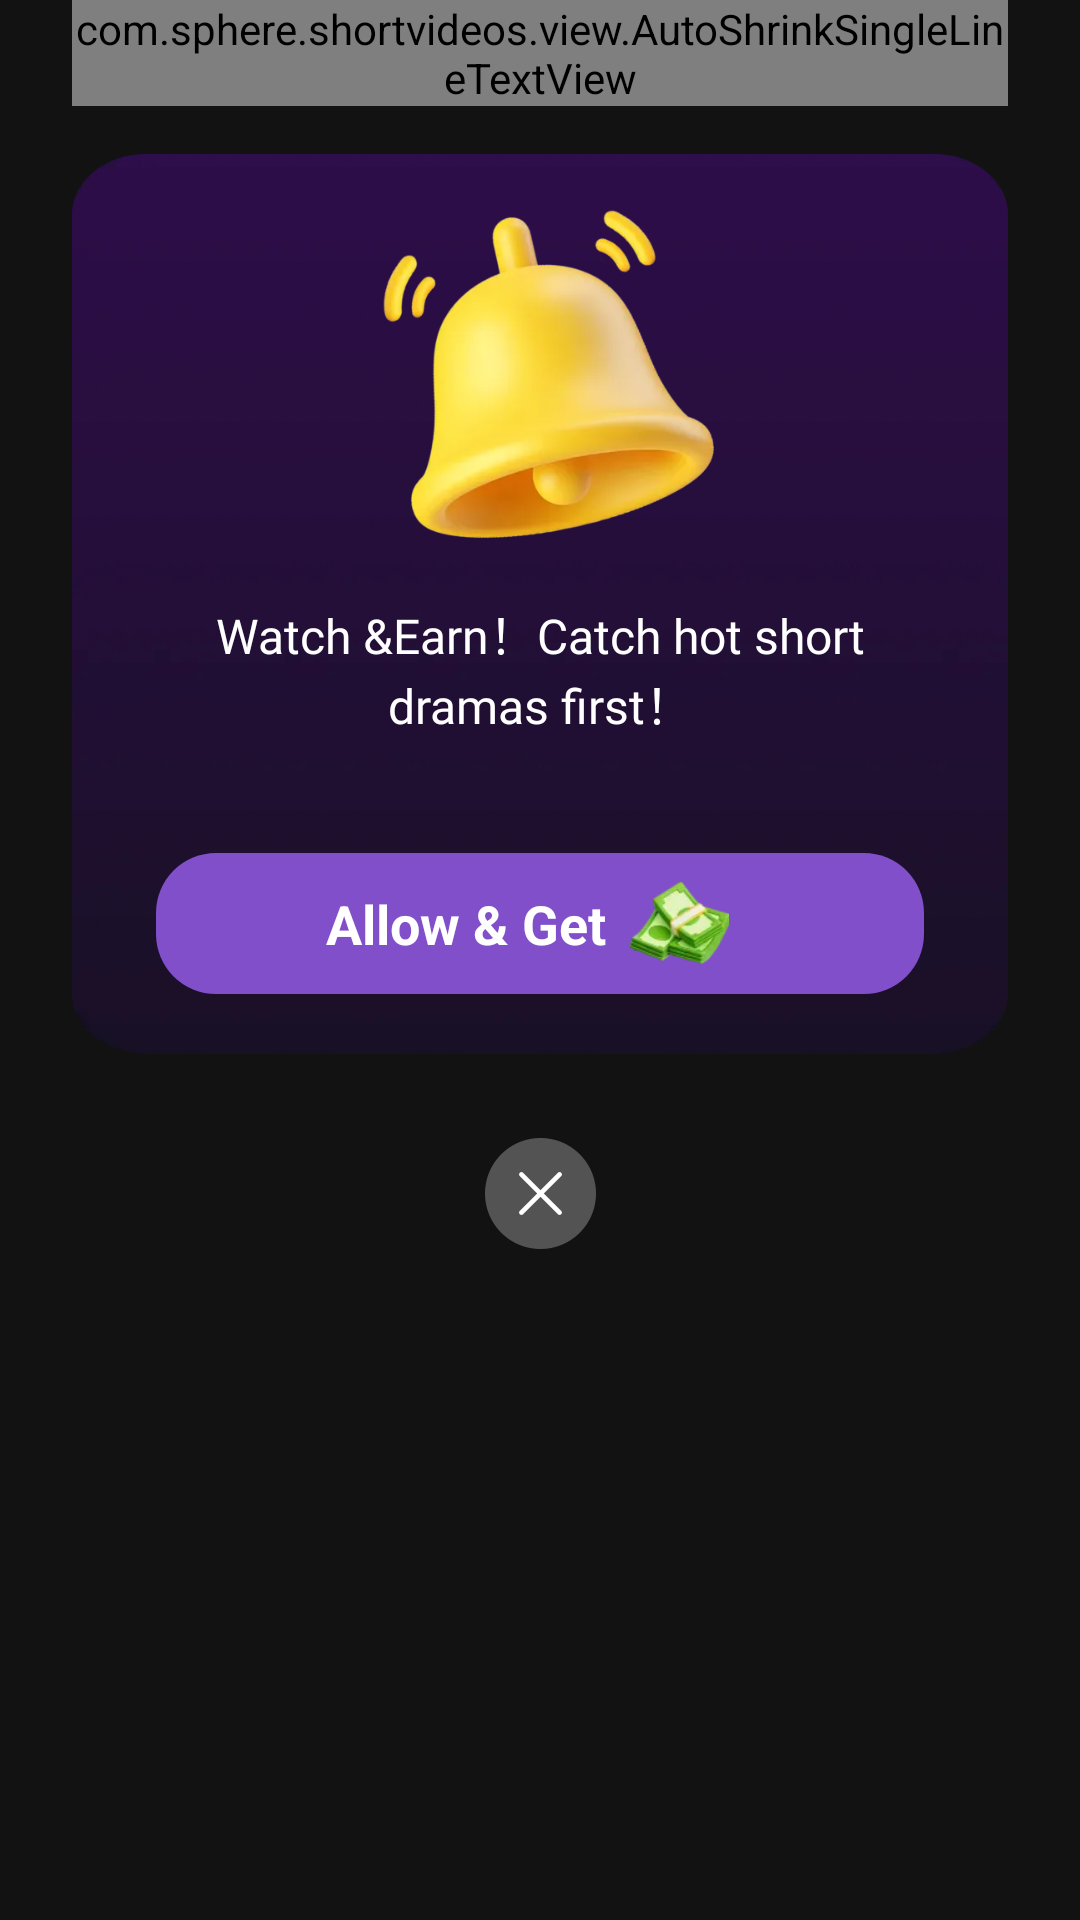

Icons on this 1080px×1920px Android screen, each with its box as (x1, y1, x2, y2):
close: (485, 1138, 596, 1249)
coin low: (630, 882, 729, 964)
notification dialog: (383, 210, 714, 538)
